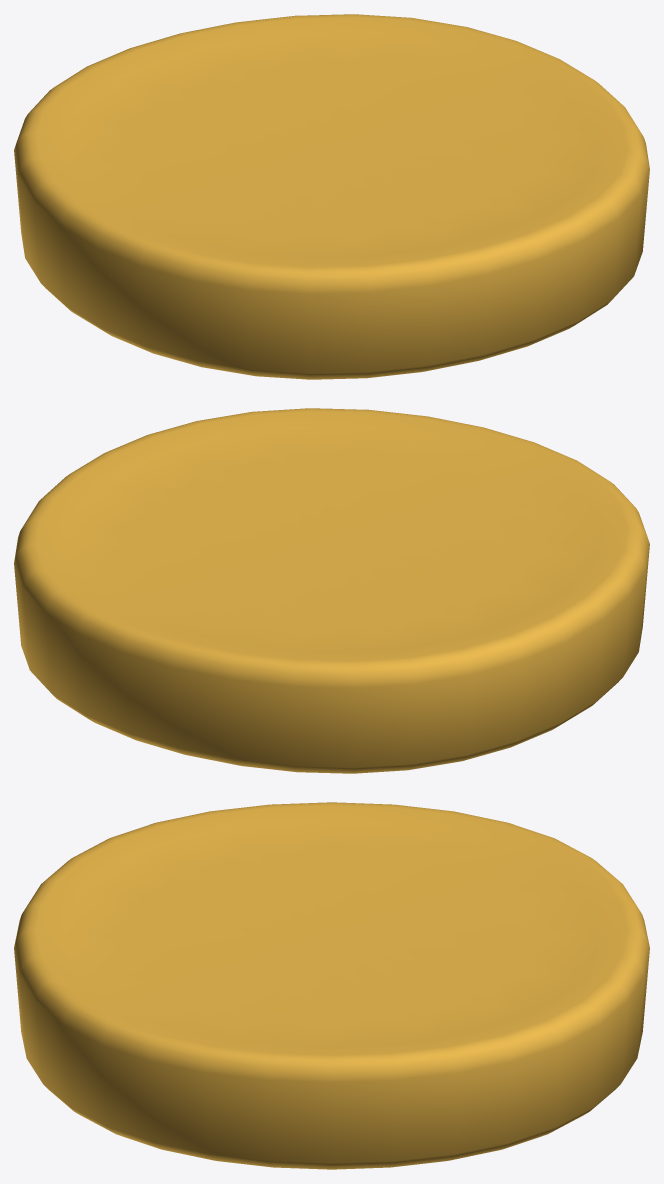
Rendered from Hamburger_bread_down.fbx.
3 renders of one model, top to bottom at view 1: azimuth 30°, elevation 25°; view 2: azimuth 150°, elevation 25°; view 3: azimuth 270°, elevation 25°, orthographic.
Visible parts, largest first — view 1: Hmbr_bread_down; view 2: Hmbr_bread_down; view 3: Hmbr_bread_down.
Boxes of the visible parts, x1,y1,x2,y2 form: Hmbr_bread_down: (14, 14, 649, 379); Hmbr_bread_down: (14, 408, 649, 773); Hmbr_bread_down: (14, 802, 649, 1169).
Size of the model in its own units: 90.38 by 19.75 by 90.38.
